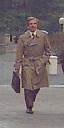person: (12, 14, 54, 117)
